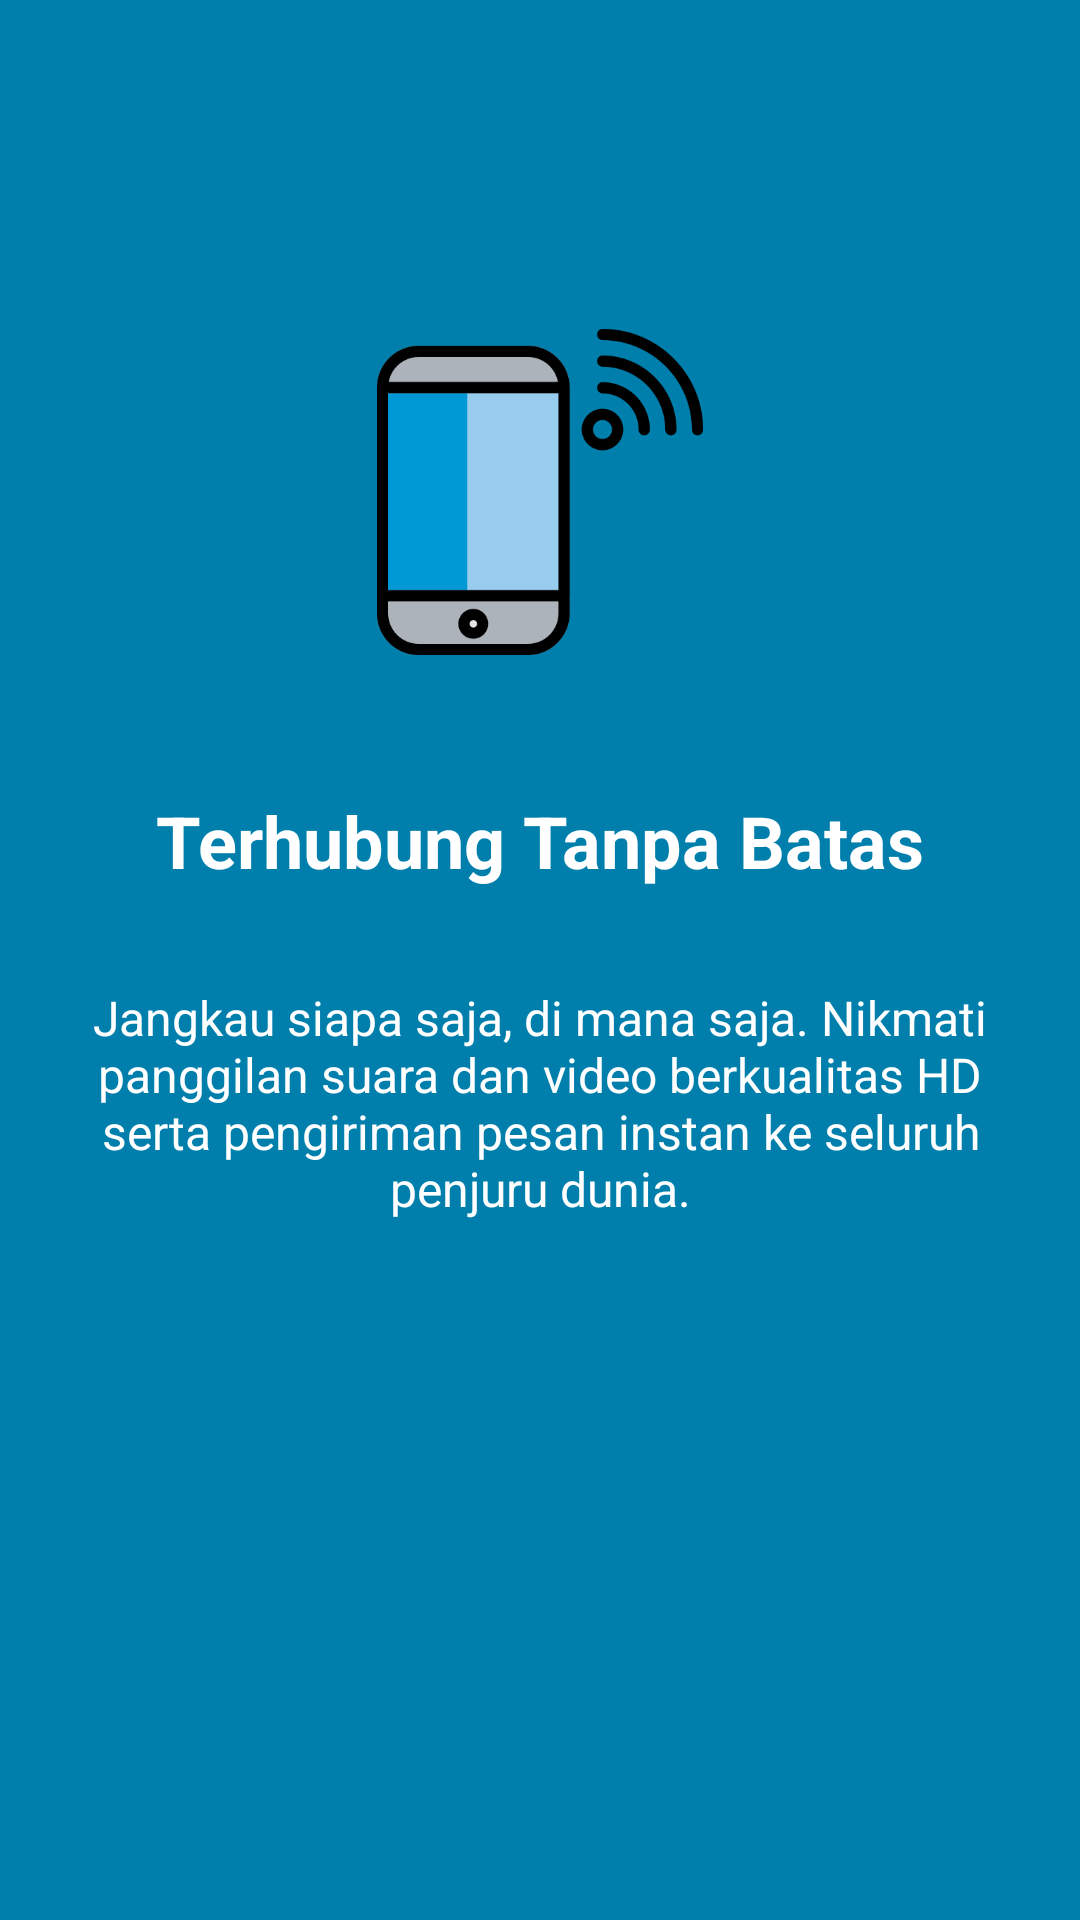

Screen size 1080 x 1920. Icon name, then its box in pixels as (x1, y1, x2, y2):
handphone: (377, 329, 703, 655)
